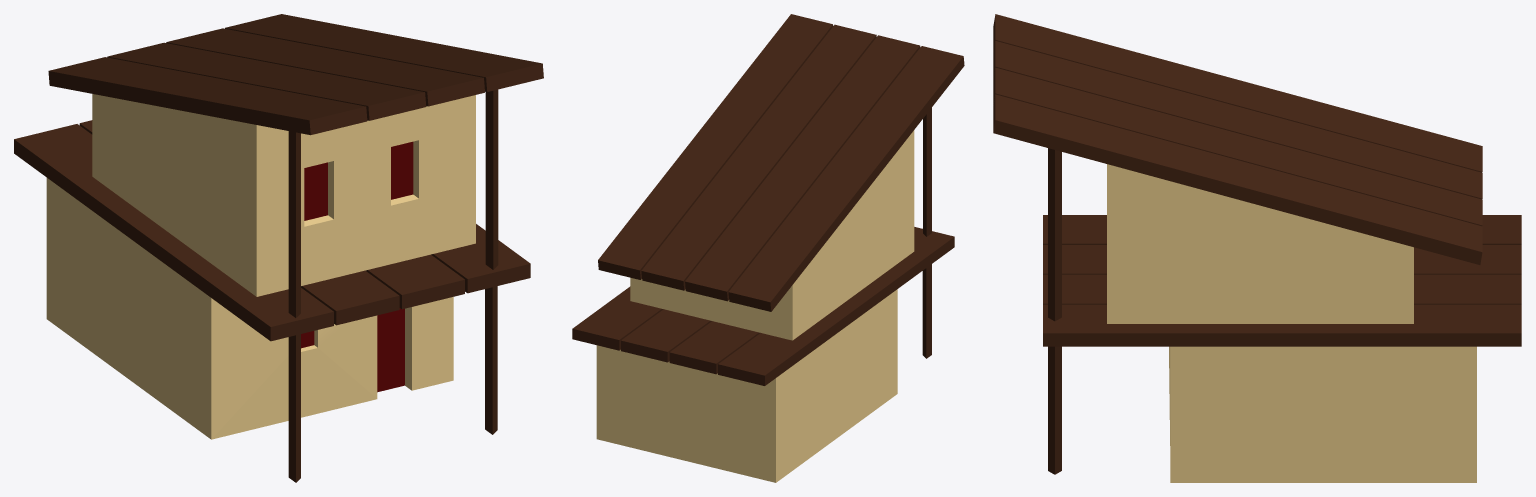
Rendered from house1.FBX.
3 renders of one model, left to right at view 1: azimuth 30°, elevation 25°; view 2: azimuth 150°, elevation 25°; view 3: azimuth 270°, elevation 25°, orthographic. The views are drawn at different scales.
Visible parts, largest first — view 1: Box002; view 2: Box002; view 3: Box002.
Boxes of the visible parts, x1,y1,x2,y2 form: Box002: [14, 14, 543, 482]; Box002: [572, 14, 964, 482]; Box002: [993, 14, 1521, 482].
Size of the model in its own units: 6.5 by 9.24 by 12.27.
